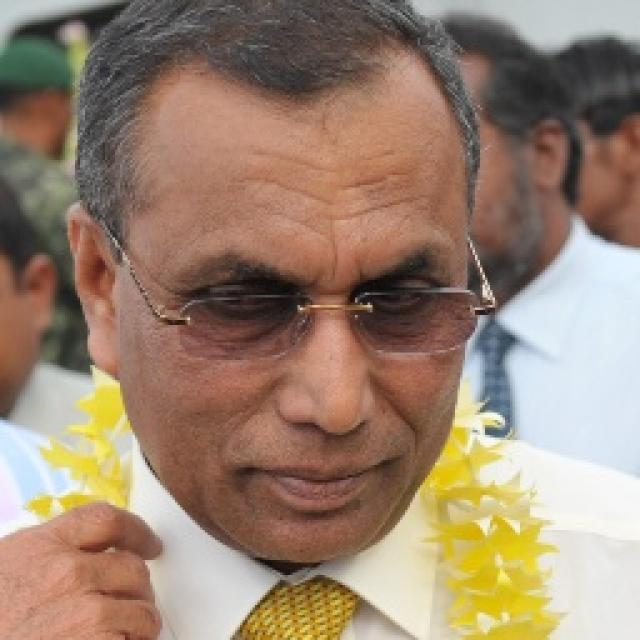earlobe: (86, 315, 121, 379)
eye: (195, 279, 277, 318), (360, 279, 438, 313)
nose: (274, 416, 375, 457)
wholeear: (66, 202, 121, 380)
